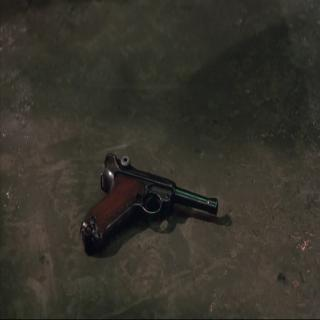gun: (80, 149, 220, 261)
